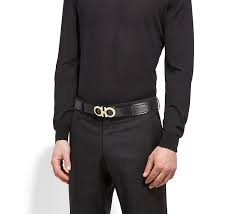F_belt: (69, 95, 161, 119)
F_dress pants: (68, 112, 172, 213)
